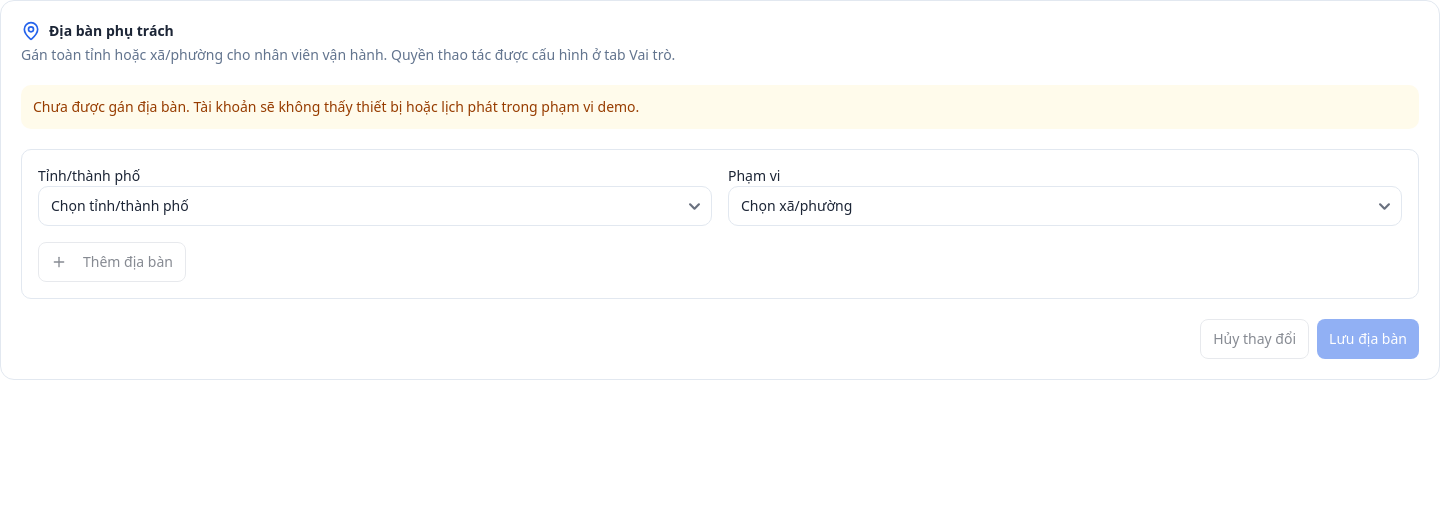
it: user territory editor › loads province/wards and saves only selected UUID assignments
The width and height of the screenshot is (1440, 521).
Step 1. Select "Thái Nguyên" in the dropdown labelled "Tỉnh/thành phố" → point(375, 206), box [38,186,712,226]
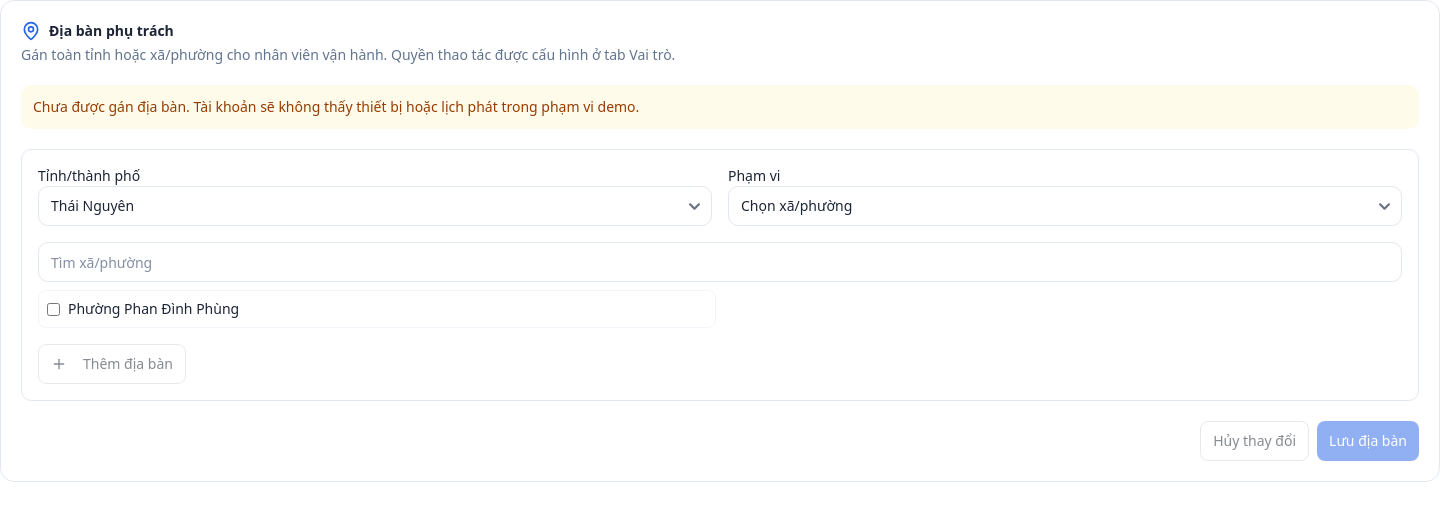
Step 2. Click the checkbox labelled "Phường Phan Đình Phùng" → point(54, 309), box [47,302,60,316]
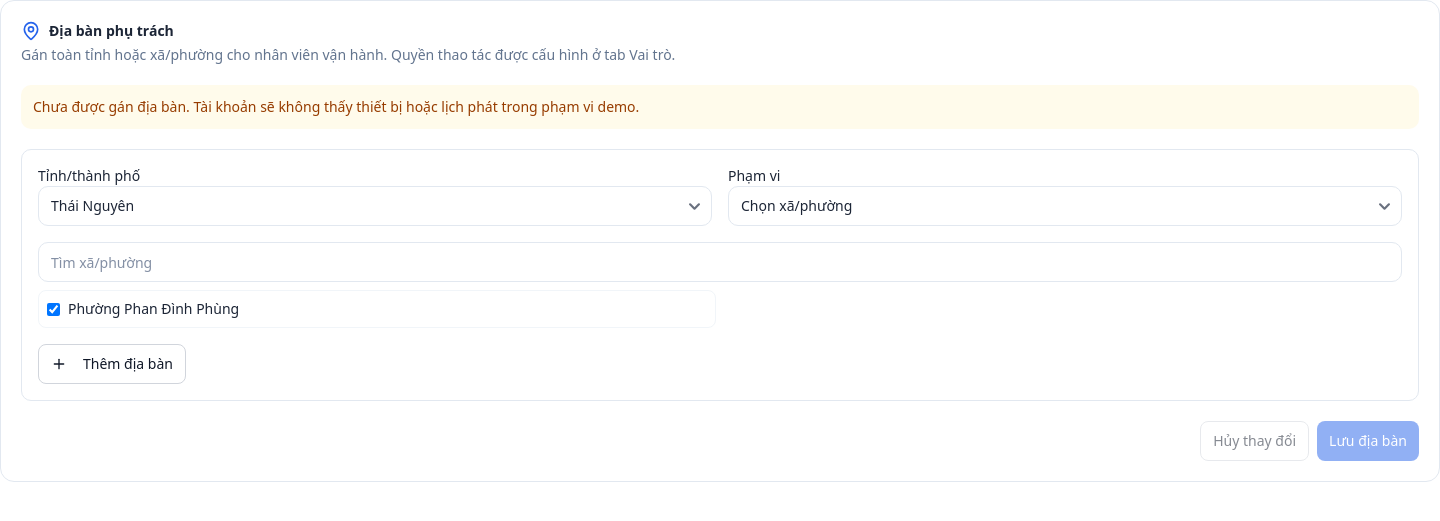
Step 3. Click the button "Thêm địa bàn" → point(112, 364), box [38,344,186,384]
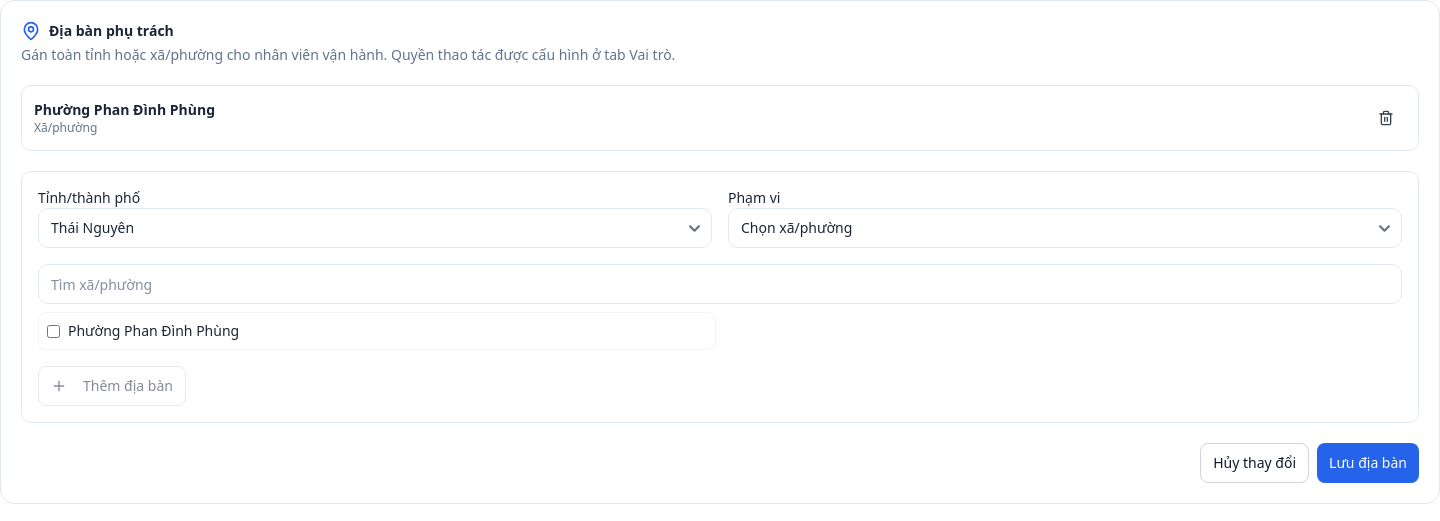
Step 4. Click the button "Lưu địa bàn" → point(1368, 463), box [1317,443,1419,483]
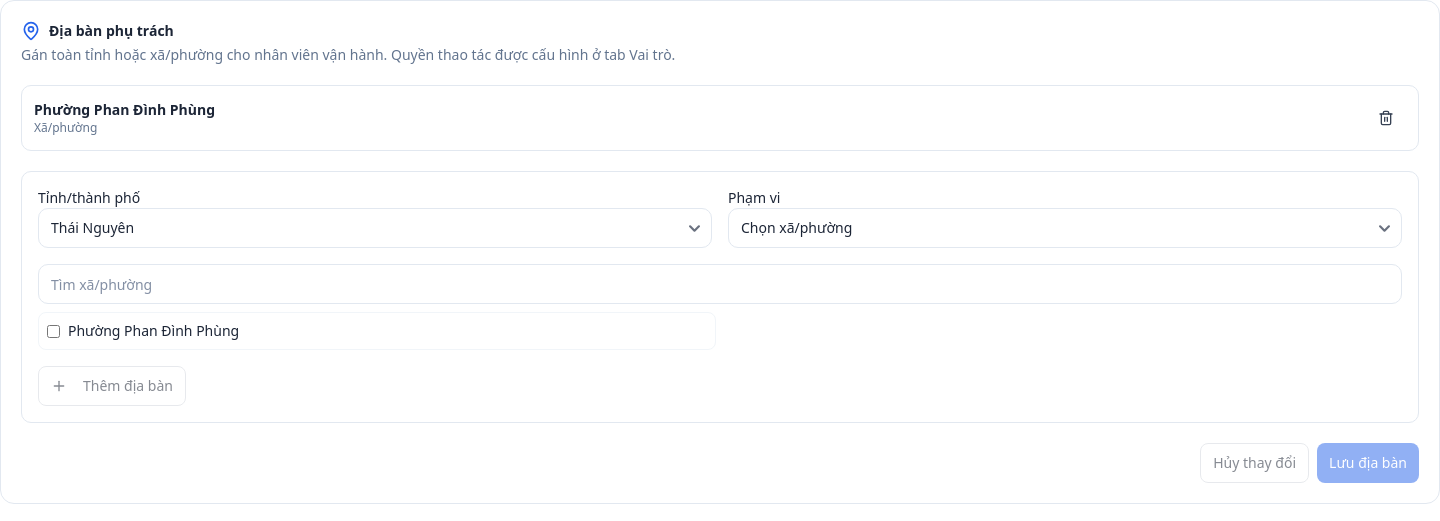
Check: the button "Lưu địa bàn" is disabled, box [1317,443,1419,483]
